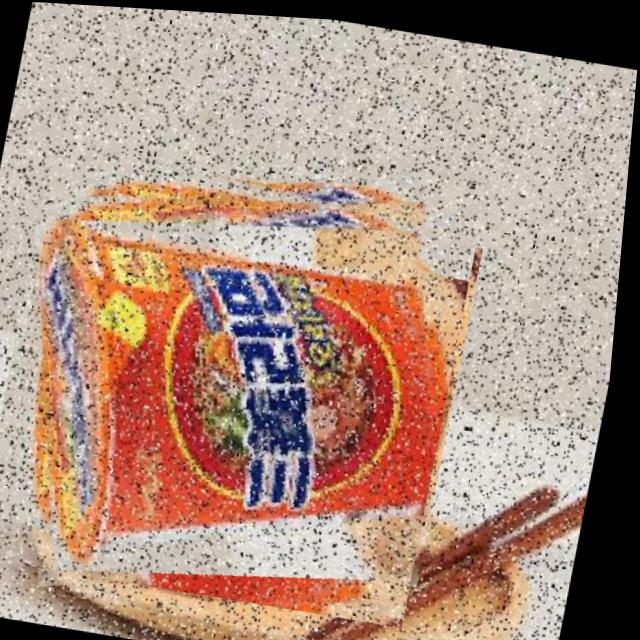Miscellaneous: (0, 132, 490, 624)
